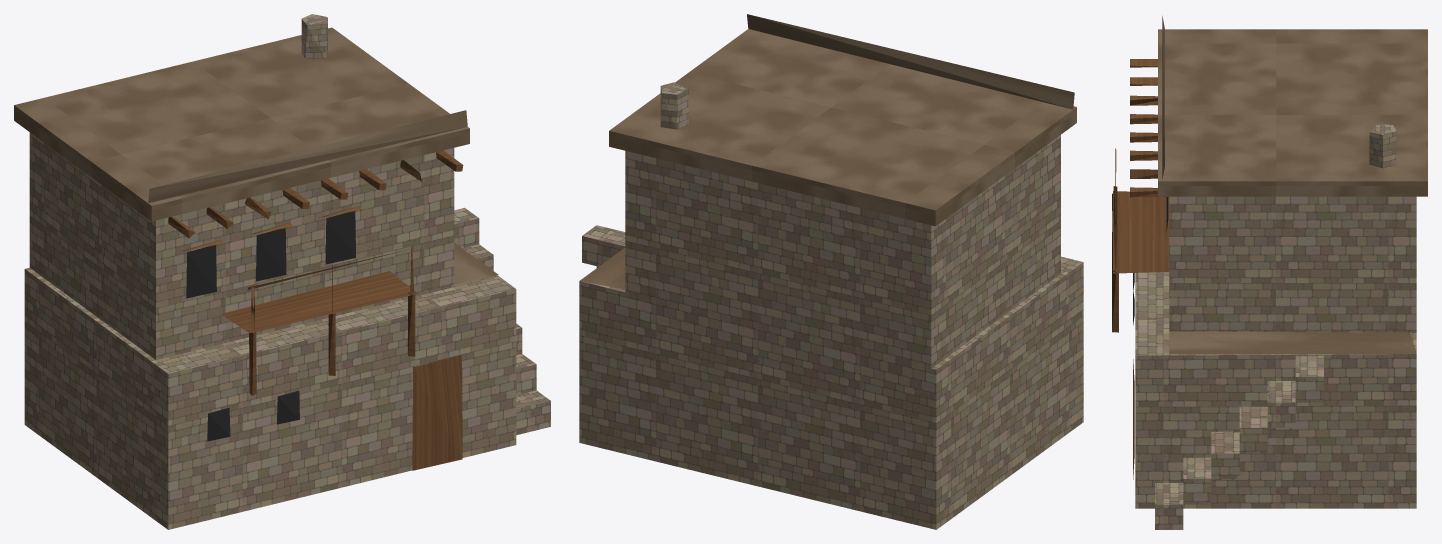
The model's file is house_saklya_2f_lod1.glb.
The picture shows the model from 3 angles, left to right: view 1: azimuth 30°, elevation 25°; view 2: azimuth 150°, elevation 25°; view 3: azimuth 270°, elevation 25°; orthographic projection. The views are drawn at different scales.
Visible parts, largest first — view 1: m; view 2: m; view 3: m.
Boxes of the visible parts, x1,y1,x2,y2 form: m: (14,14,550,529); m: (579,14,1083,529); m: (1112,16,1427,529).
Size of the model in its own units: 8 by 6.74 by 5.62.
Materials: 4 (3 with a texture image).
